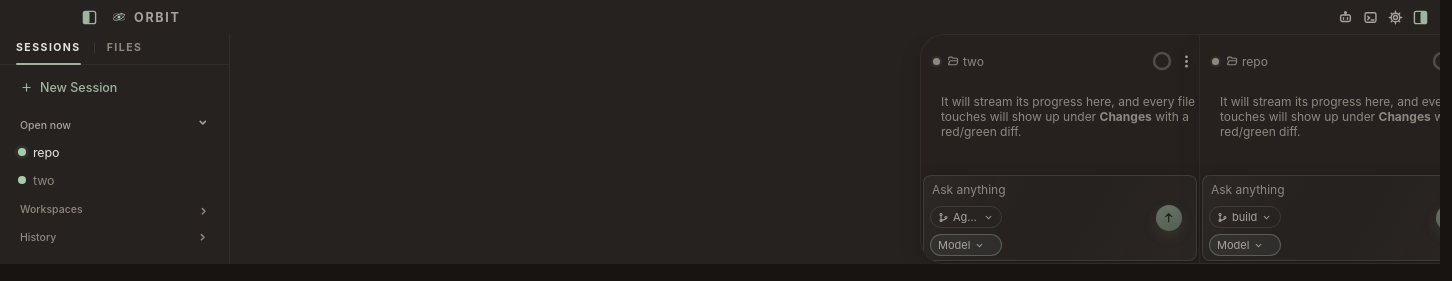
it: Layout panel sizing › closes a model panel without leaving a collapsed strip behind
(page scrolled)
Expected: the number of elements with class "agent-panel" is 2, [920,34,1200,264]; [1200,34,1440,264]
What coordinates should you click on to do the following:
click the 1st button with class "agent-close"
I would click on:
 (936, 61)
Its box is [933,58,940,64].
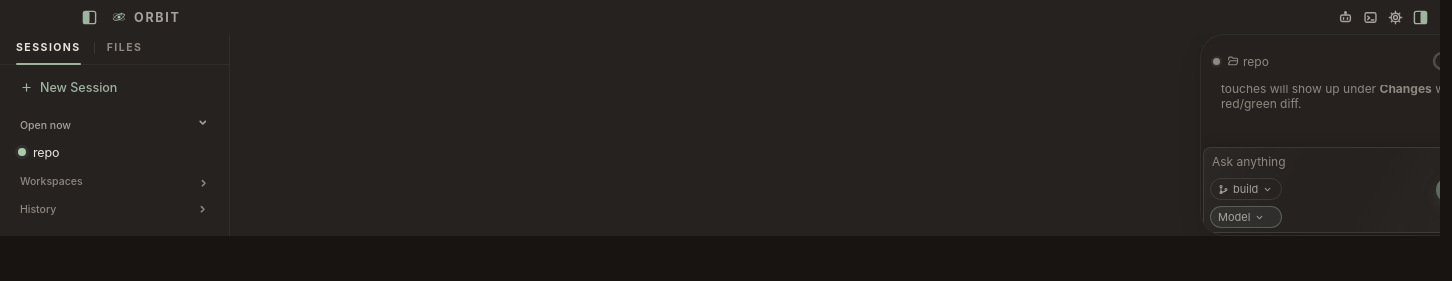
Expected: the number of elements with class "agent-panel" is 1, [1200,34,1440,236]
